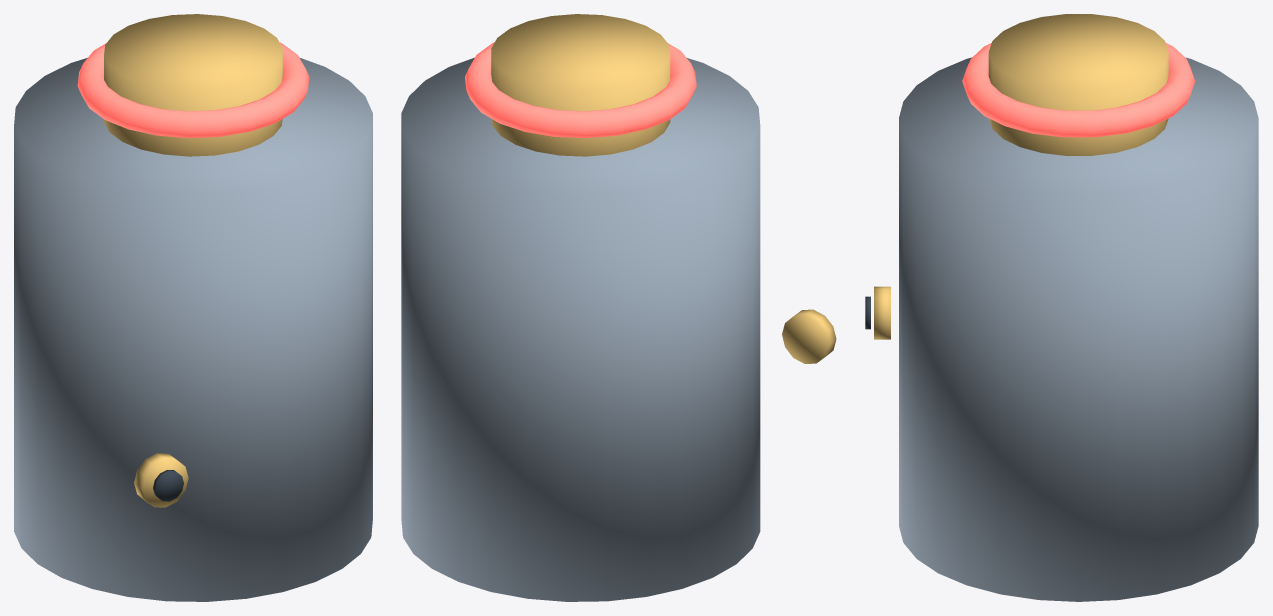
File: 75_L88_HabitatPressureVesselSafetyRelief.glb
The picture shows the model from 3 angles, left to right: view 1: azimuth 30°, elevation 25°; view 2: azimuth 150°, elevation 25°; view 3: azimuth 270°, elevation 25°; orthographic projection.
Parts seen in each view (by area): view 1: L87_HabitatPressureVesselSafe_Part_0000, L87_HabitatPressureVesselSafe_Part_0001, L87_HabitatPressureVesselSafe_Part_0002, L87_HabitatPressureVesselSafe_Part_0003, L87_HabitatPressureVesselSafe_Part_0004; view 2: L87_HabitatPressureVesselSafe_Part_0000, L87_HabitatPressureVesselSafe_Part_0001, L87_HabitatPressureVesselSafe_Part_0002, L87_HabitatPressureVesselSafe_Part_0003; view 3: L87_HabitatPressureVesselSafe_Part_0000, L87_HabitatPressureVesselSafe_Part_0001, L87_HabitatPressureVesselSafe_Part_0002, L87_HabitatPressureVesselSafe_Part_0003.
Part boxes in pixels (x1,y1,x2,y2): L87_HabitatPressureVesselSafe_Part_0000: (14, 58, 372, 601); L87_HabitatPressureVesselSafe_Part_0001: (104, 14, 282, 156); L87_HabitatPressureVesselSafe_Part_0002: (77, 42, 309, 138); L87_HabitatPressureVesselSafe_Part_0003: (134, 453, 188, 507); L87_HabitatPressureVesselSafe_Part_0004: (153, 470, 183, 501); L87_HabitatPressureVesselSafe_Part_0000: (401, 57, 760, 601); L87_HabitatPressureVesselSafe_Part_0001: (491, 14, 670, 156); L87_HabitatPressureVesselSafe_Part_0002: (465, 42, 696, 137); L87_HabitatPressureVesselSafe_Part_0003: (782, 309, 836, 363); L87_HabitatPressureVesselSafe_Part_0000: (899, 57, 1258, 601); L87_HabitatPressureVesselSafe_Part_0001: (988, 14, 1168, 155); L87_HabitatPressureVesselSafe_Part_0002: (962, 43, 1195, 137); L87_HabitatPressureVesselSafe_Part_0003: (874, 286, 890, 339).
Size of the model in its own units: 0.88 by 1.28 by 0.962.
